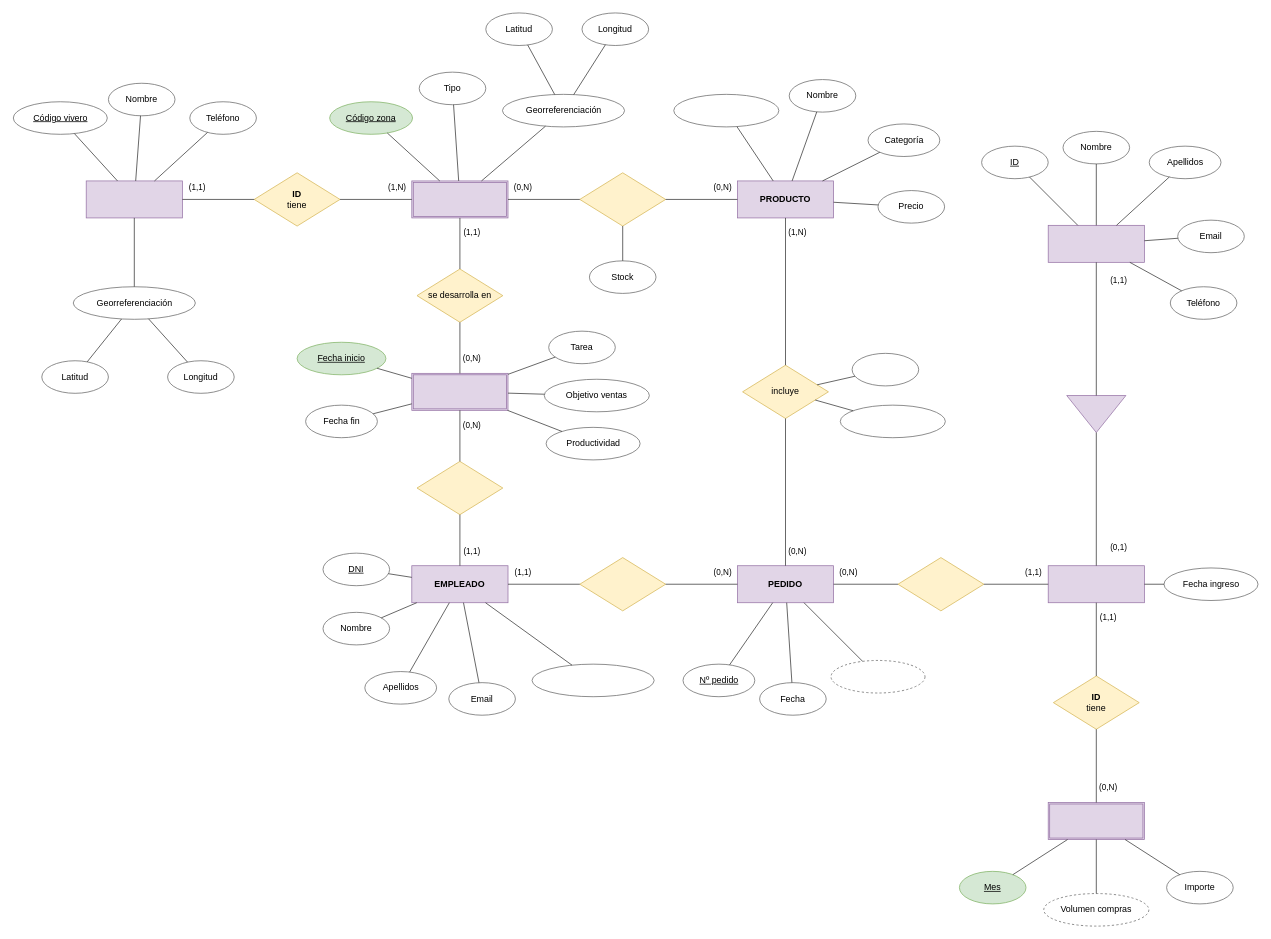
This 1271x939 diagram has some shape labels left out. The centre of each missing label's shape, as x and y in pixels:
almacena: pixel 622 199
BONIFICACIÓN: pixel 1095 821
Cantidad: pixel 885 369
CLIENTE: pixel 1095 243
CLIENTE PLUS: pixel 1095 584
Código producto: pixel 726 110
Fecha contratación: pixel 592 680
gestiona: pixel 622 584
ID ocupa: pixel 459 488
Importe total: pixel 877 676
Precio unitario: pixel 892 421
PUESTO: pixel 459 391
realiza: pixel 940 584
VIVERO: pixel 133 199
ZONA: pixel 459 199
